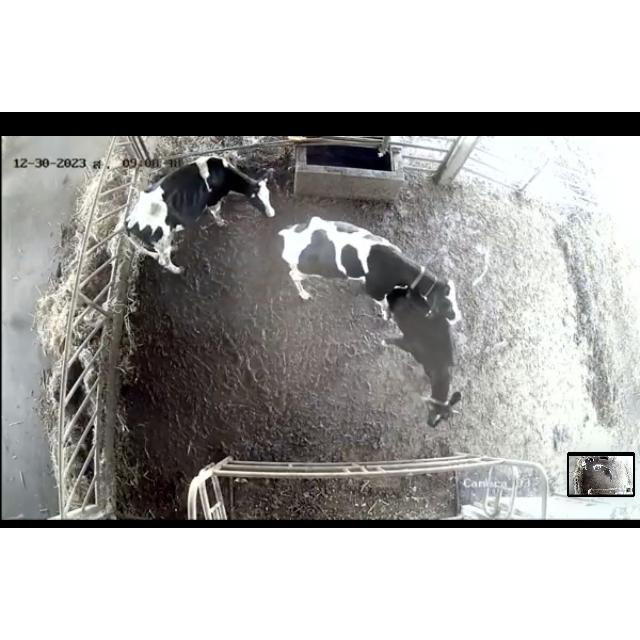propping: (410, 262, 472, 344)
